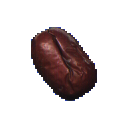ng: (23, 22, 108, 107)
